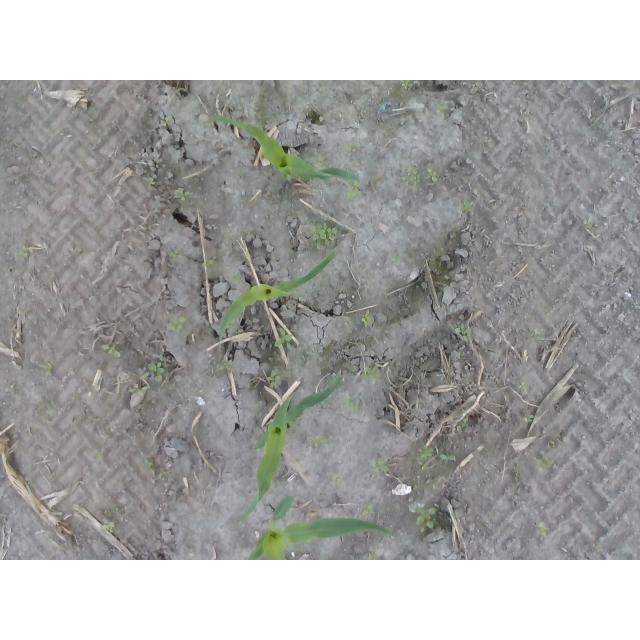Maize: (237, 371, 344, 525), (216, 244, 345, 356), (209, 114, 360, 188), (242, 490, 402, 559)
Weeds: (309, 224, 339, 249), (102, 505, 126, 534), (418, 447, 456, 465), (128, 373, 154, 398), (271, 355, 288, 389), (273, 328, 295, 349), (414, 509, 434, 532), (145, 459, 168, 479), (149, 363, 165, 386), (371, 458, 389, 478), (344, 392, 360, 414), (167, 316, 184, 336), (102, 346, 123, 361), (347, 182, 365, 198), (403, 169, 422, 183), (175, 187, 194, 201), (455, 327, 473, 341), (305, 435, 327, 446), (361, 312, 375, 329), (536, 521, 548, 540), (364, 367, 381, 380), (461, 201, 475, 216), (425, 167, 439, 182), (221, 358, 235, 373), (457, 419, 471, 434), (539, 457, 554, 471), (434, 102, 448, 115), (40, 362, 52, 377), (364, 505, 377, 516), (15, 249, 30, 258), (402, 82, 415, 91), (168, 250, 182, 258), (163, 116, 173, 125), (147, 175, 155, 186), (596, 542, 603, 553), (525, 419, 535, 426), (392, 256, 400, 264)
